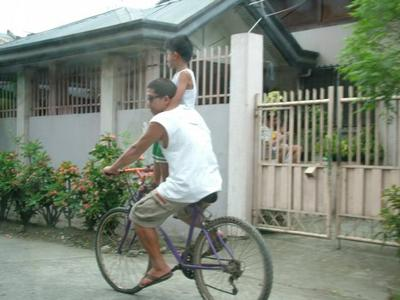person: (103, 79, 223, 293)
